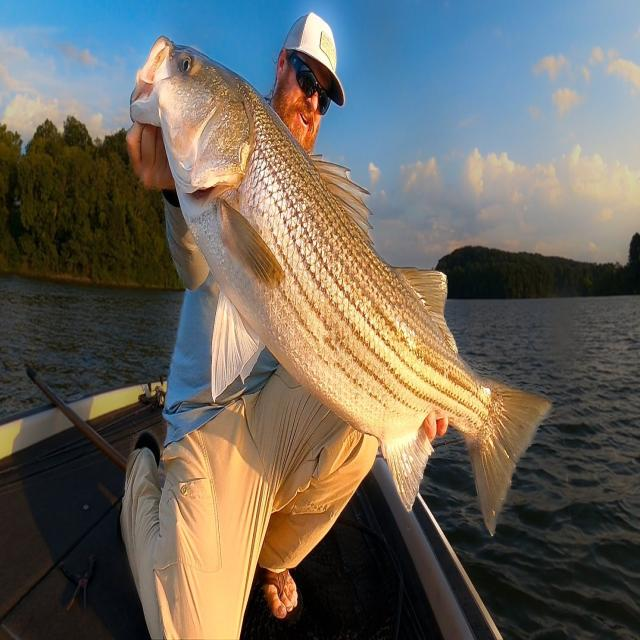Bass - Striped: (131, 38, 550, 533)
